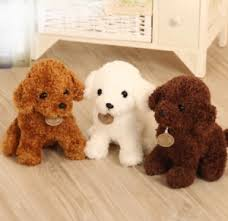teddy: (136, 65, 228, 193), (70, 53, 159, 172), (7, 55, 89, 169)
